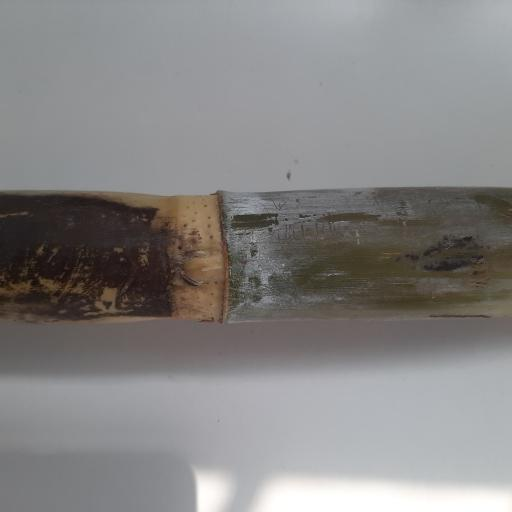Bud: (178, 244, 225, 285)
